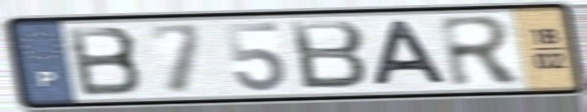5: (223, 20, 290, 93)
7: (146, 21, 207, 97)
A: (371, 18, 453, 89)
B: (286, 18, 372, 92), (63, 24, 147, 99)
R: (435, 13, 528, 89)
